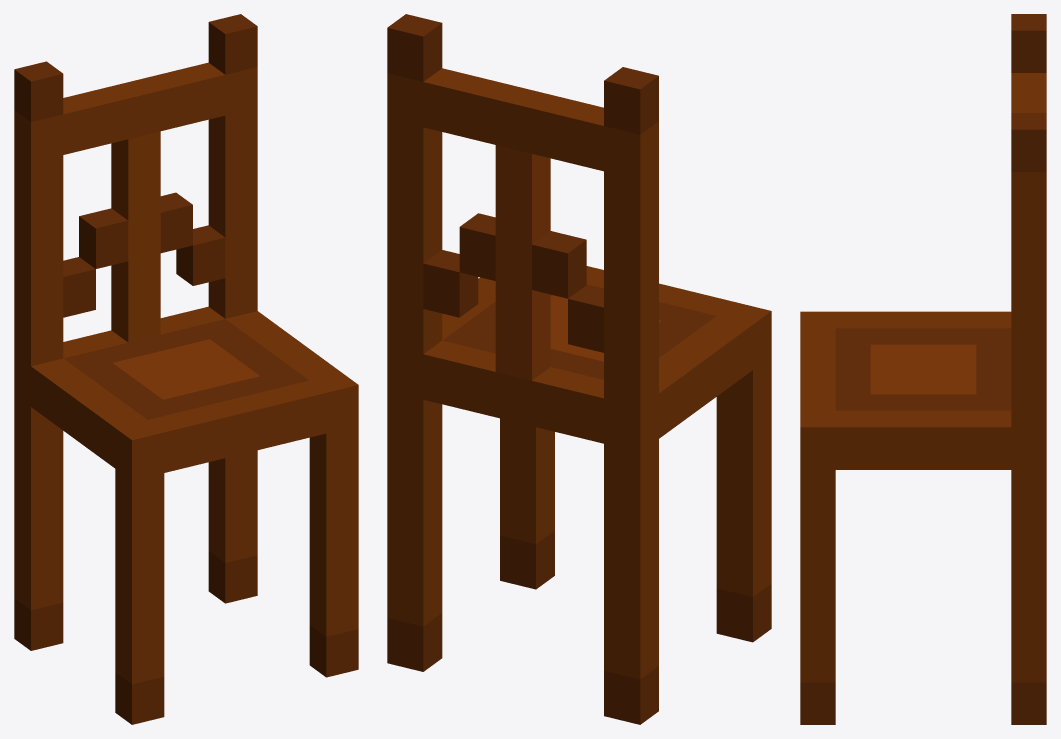
The model's file is woodChair1.obj.
3 views of the same model, side by side, from view 1: azimuth 30°, elevation 25°; view 2: azimuth 150°, elevation 25°; view 3: azimuth 270°, elevation 25° (orthographic). The views are drawn at different scales.
Parts seen in each view (by area): view 1: model_0; view 2: model_0; view 3: model_0.
Boxes of the visible parts, x1=… form: model_0: x1=14, y1=14, x2=358, y2=724; model_0: x1=387, y1=14, x2=771, y2=724; model_0: x1=800, y1=14, x2=1046, y2=724.
Bounding box in the file's own units: 0.3889 × 0.9333 × 0.35.
